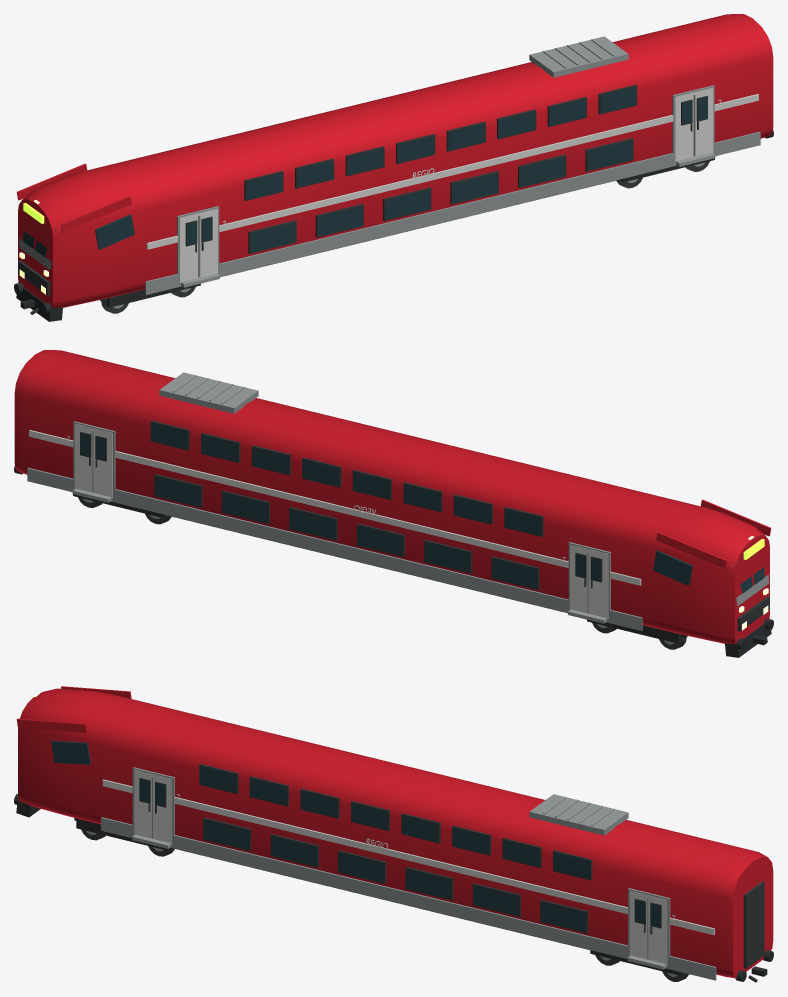
File: db-regional-express-driving-trailer.glb
The picture shows the model from 3 angles, top to bottom: view 1: azimuth 30°, elevation 25°; view 2: azimuth 150°, elevation 25°; view 3: azimuth 330°, elevation 25°; orthographic projection.
Visible parts, largest first — view 1: driving_trailer_double_deck_body, driving_trailer_lower_skirt_-1, driving_trailer_white_belt_-1, driving_trailer_roof_hvac_1, driving_trailer_door_-1_0, driving_trailer_door_-1_1, driving_trailer_lower_window_-1_2, driving_trailer_lower_window_-1_5, driving_trailer_lower_window_-1_3, driving_trailer_lower_window_-1_4, driving_trailer_lower_window_-1_0, driving_trailer_lower_window_-1_1 (+11 smaller); view 2: driving_trailer_double_deck_body, driving_trailer_lower_skirt_1, driving_trailer_white_belt_1, driving_trailer_roof_hvac_1, driving_trailer_door_1_0, driving_trailer_door_1_1, driving_trailer_bogie_a, driving_trailer_lower_window_1_2, driving_trailer_lower_window_1_5, driving_trailer_lower_window_1_3, driving_trailer_lower_window_1_4, driving_trailer_lower_window_1_0 (+13 smaller); view 3: driving_trailer_double_deck_body, driving_trailer_lower_skirt_-1, driving_trailer_white_belt_-1, driving_trailer_roof_hvac_1, driving_trailer_door_-1_1, driving_trailer_door_-1_0, driving_trailer_gangway, driving_trailer_lower_window_-1_1, driving_trailer_lower_window_-1_2, driving_trailer_lower_window_-1_5, driving_trailer_lower_window_-1_0, driving_trailer_lower_window_-1_3 (+13 smaller).
Part boxes in pixels (x1=…): driving_trailer_double_deck_body: x1=18, y1=14, x2=773, y2=308; driving_trailer_lower_skirt_-1: x1=145, y1=131, x2=760, y2=294; driving_trailer_white_belt_-1: x1=146, y1=94, x2=758, y2=249; driving_trailer_roof_hvac_1: x1=529, y1=36, x2=628, y2=77; driving_trailer_door_-1_0: x1=179, y1=208, x2=217, y2=283; driving_trailer_door_-1_1: x1=675, y1=88, x2=713, y2=162; driving_trailer_lower_window_-1_2: x1=385, y1=190, x2=430, y2=219; driving_trailer_lower_window_-1_5: x1=587, y1=140, x2=632, y2=169; driving_trailer_lower_window_-1_3: x1=453, y1=173, x2=497, y2=202; driving_trailer_lower_window_-1_4: x1=520, y1=157, x2=564, y2=186; driving_trailer_lower_window_-1_0: x1=251, y1=223, x2=295, y2=252; driving_trailer_lower_window_-1_1: x1=318, y1=206, x2=362, y2=235; driving_trailer_double_deck_body: x1=14, y1=350, x2=769, y2=644; driving_trailer_lower_skirt_1: x1=27, y1=467, x2=642, y2=630; driving_trailer_white_belt_1: x1=29, y1=430, x2=641, y2=585; driving_trailer_roof_hvac_1: x1=159, y1=372, x2=258, y2=413; driving_trailer_door_1_0: x1=570, y1=544, x2=608, y2=619; driving_trailer_door_1_1: x1=74, y1=424, x2=112, y2=498; driving_trailer_bogie_a: x1=587, y1=619, x2=686, y2=649; driving_trailer_lower_window_1_2: x1=357, y1=526, x2=402, y2=555; driving_trailer_lower_window_1_5: x1=155, y1=476, x2=200, y2=505; driving_trailer_lower_window_1_3: x1=290, y1=509, x2=334, y2=538; driving_trailer_lower_window_1_4: x1=223, y1=493, x2=267, y2=522; driving_trailer_lower_window_1_0: x1=492, y1=559, x2=536, y2=588; driving_trailer_double_deck_body: x1=18, y1=688, x2=773, y2=978; driving_trailer_lower_skirt_-1: x1=101, y1=817, x2=716, y2=980; driving_trailer_white_belt_-1: x1=102, y1=779, x2=714, y2=935; driving_trailer_roof_hvac_1: x1=529, y1=794, x2=628, y2=835; driving_trailer_door_-1_1: x1=629, y1=891, x2=667, y2=965; driving_trailer_door_-1_0: x1=134, y1=770, x2=172, y2=844; driving_trailer_gangway: x1=743, y1=881, x2=764, y2=968; driving_trailer_lower_window_-1_1: x1=271, y1=836, x2=316, y2=865; driving_trailer_lower_window_-1_2: x1=339, y1=853, x2=383, y2=882; driving_trailer_lower_window_-1_5: x1=541, y1=902, x2=585, y2=931; driving_trailer_lower_window_-1_0: x1=204, y1=820, x2=248, y2=849; driving_trailer_lower_window_-1_3: x1=406, y1=869, x2=450, y2=898.
Bounding box in the file's own units: 27.76 × 4.86 × 3.35.
